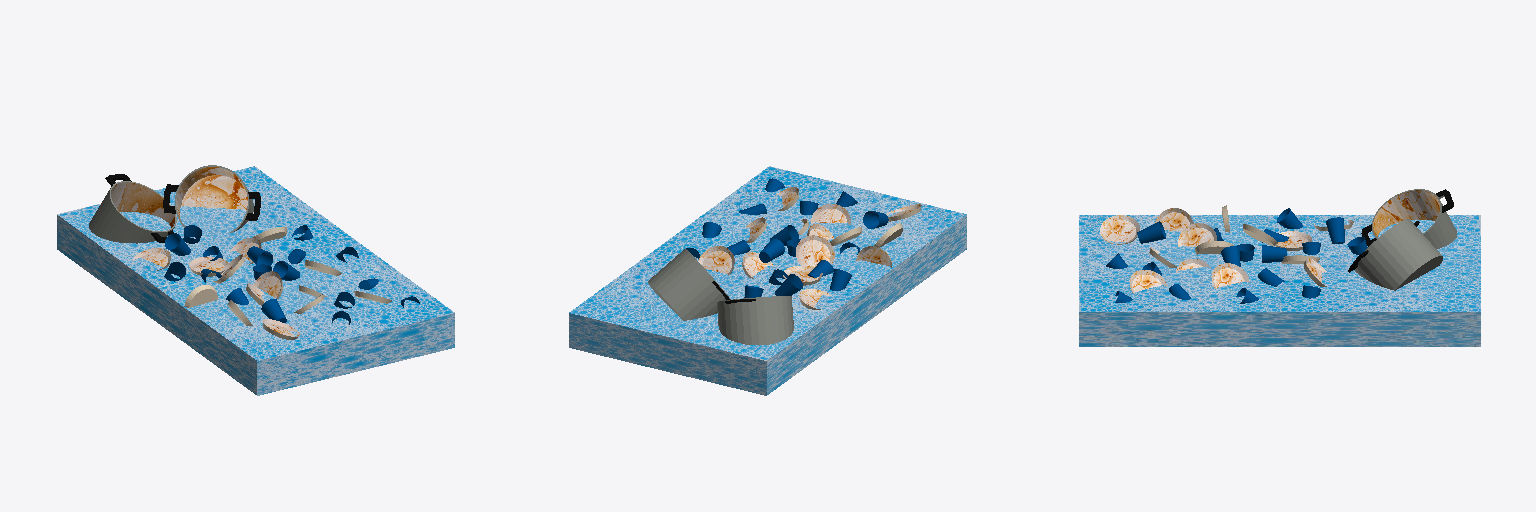
3 renders of one model, left to right at view 1: azimuth 30°, elevation 25°; view 2: azimuth 150°, elevation 25°; view 3: azimuth 270°, elevation 25°, orthographic.
Parts seen in each view (by area): view 1: Cubo.039_Cubo.014; view 2: Cubo.039_Cubo.014; view 3: Cubo.039_Cubo.014.
Part boxes in pixels (bbox=[...]): Cubo.039_Cubo.014: bbox=[57, 165, 454, 395]; Cubo.039_Cubo.014: bbox=[569, 166, 966, 395]; Cubo.039_Cubo.014: bbox=[1079, 189, 1480, 346].
Bounding box in the file's own units: 1.36 × 0.5608 × 2.4.
Materials: 50 (3 with a texture image).